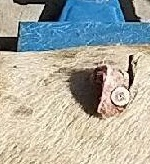text: (103, 77, 136, 113)
